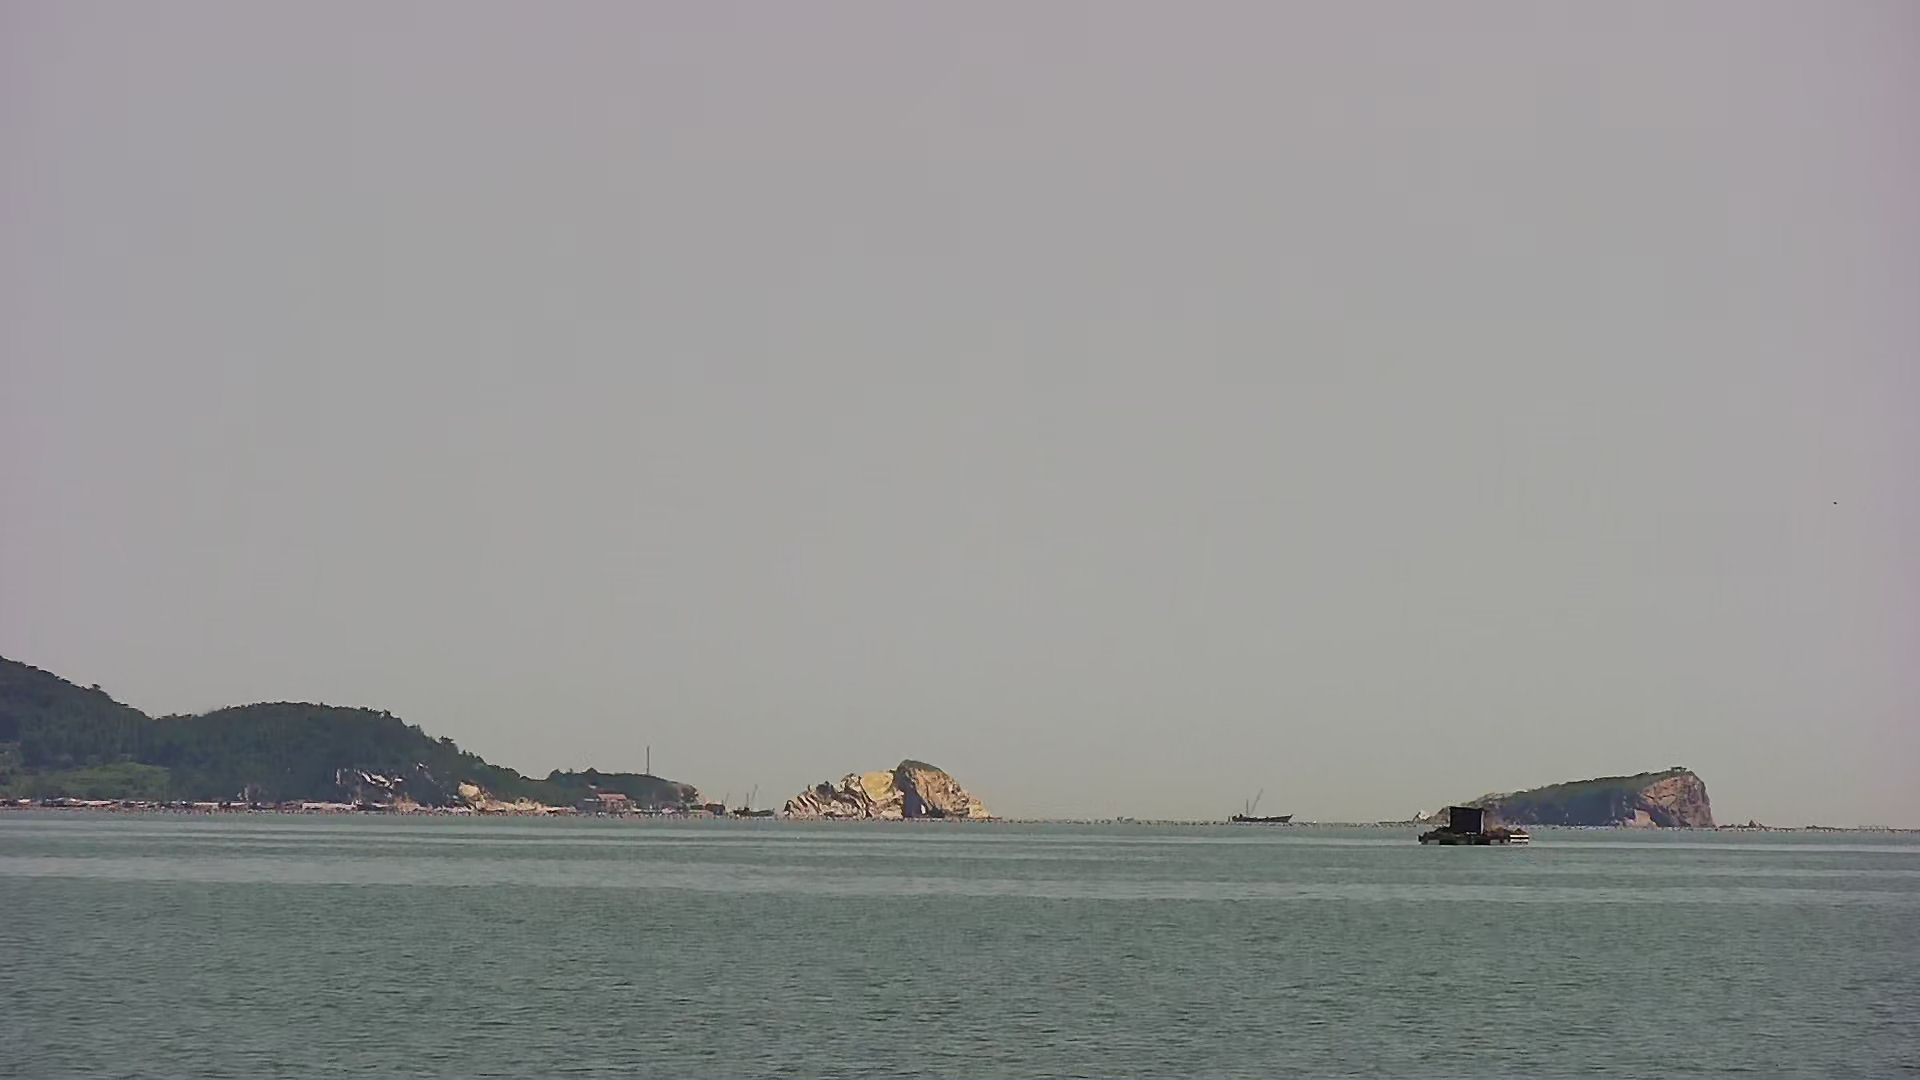boat: (1226, 781, 1294, 825)
platform: (1415, 802, 1534, 849)
rock: (1385, 765, 1717, 833), (778, 760, 1000, 822)
